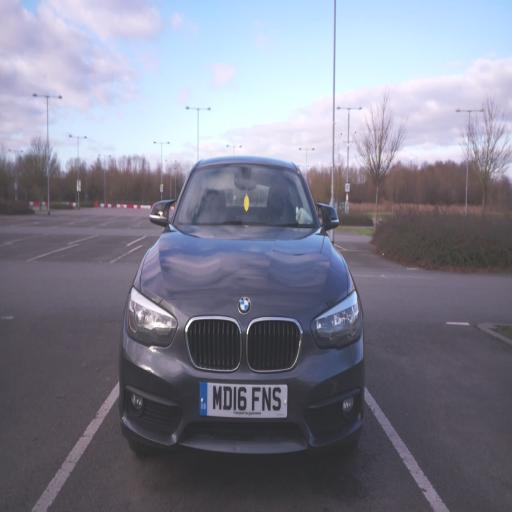numberplates: (200, 383, 287, 418)
